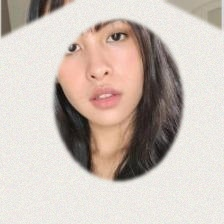Mukena: (7, 28, 224, 224)
